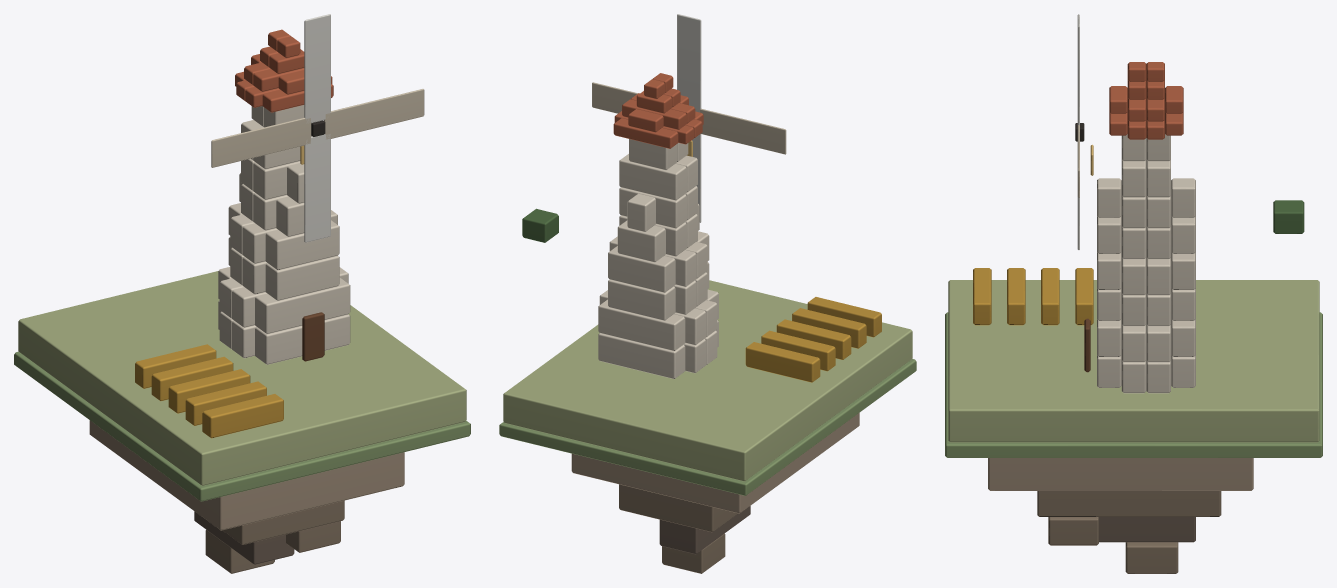
File: region_12.glb
The picture shows the model from 3 angles, left to right: view 1: azimuth 30°, elevation 25°; view 2: azimuth 150°, elevation 25°; view 3: azimuth 270°, elevation 25°; orthographic projection. The views are drawn at different scales.
Parts seen in each view (by area): view 1: region_12_static, region_12_blades; view 2: region_12_static, region_12_blades; view 3: region_12_static, region_12_blades.
Boxes of the visible parts, <box> form: region_12_static: <box>14,29,470,573</box>; region_12_blades: <box>211,14,424,242</box>; region_12_static: <box>499,73,916,573</box>; region_12_blades: <box>592,14,786,222</box>; region_12_static: <box>945,62,1322,573</box>; region_12_blades: <box>1075,14,1084,249</box>.
Size of the model in its own units: 5.45 by 10.05 by 6.1.
